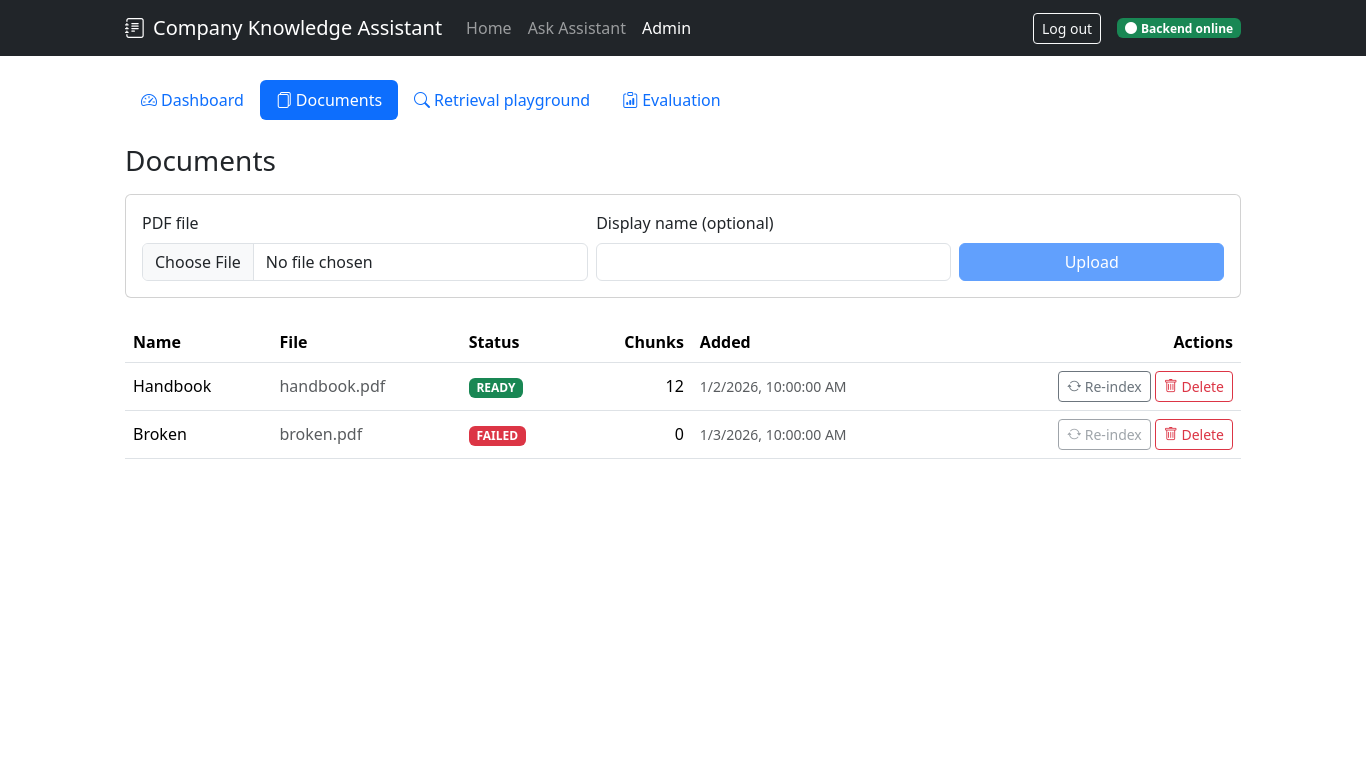
Test: admin panel › document management › deletes only after confirmation
Click the button with aria-label "Delete Handbook" at [1194, 386], box [1155,371,1233,402]
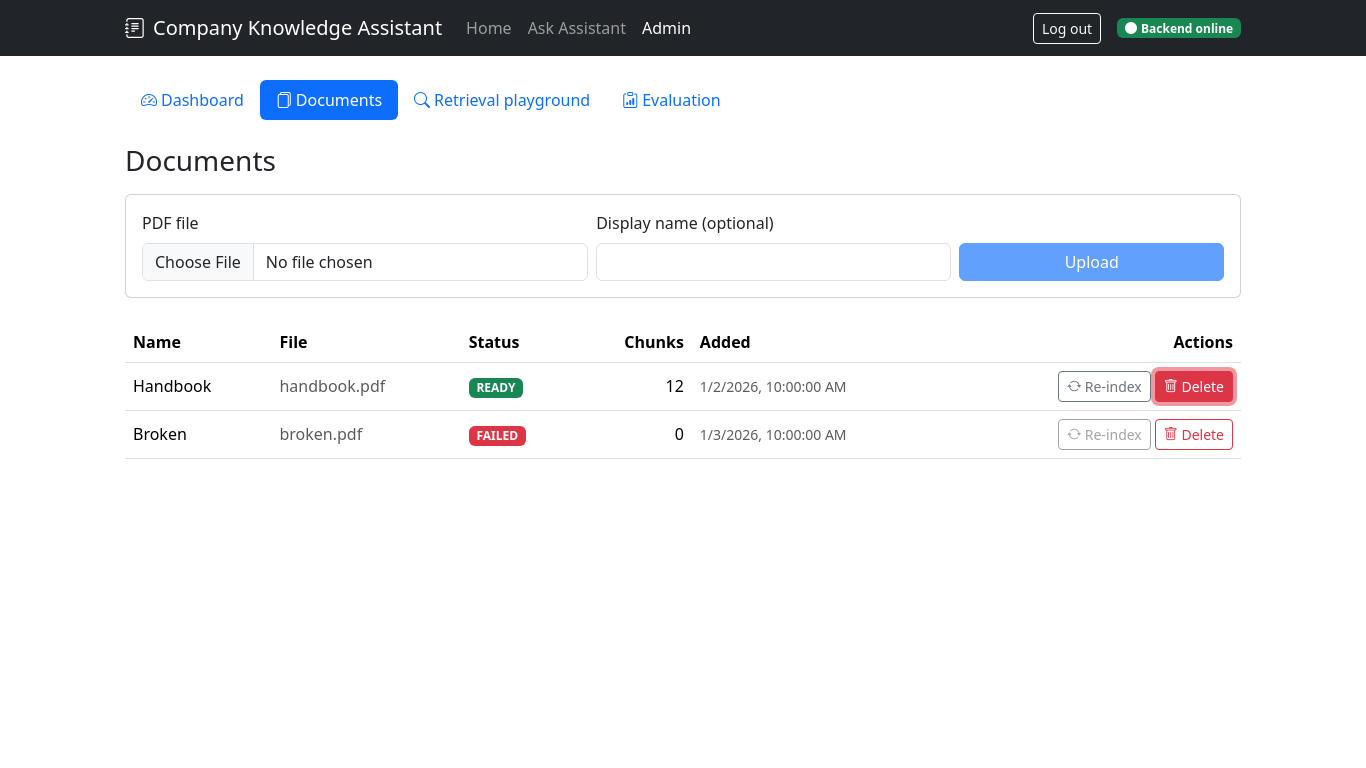
Click the button with aria-label "Delete Handbook" at [1194, 386], box [1155,371,1233,402]
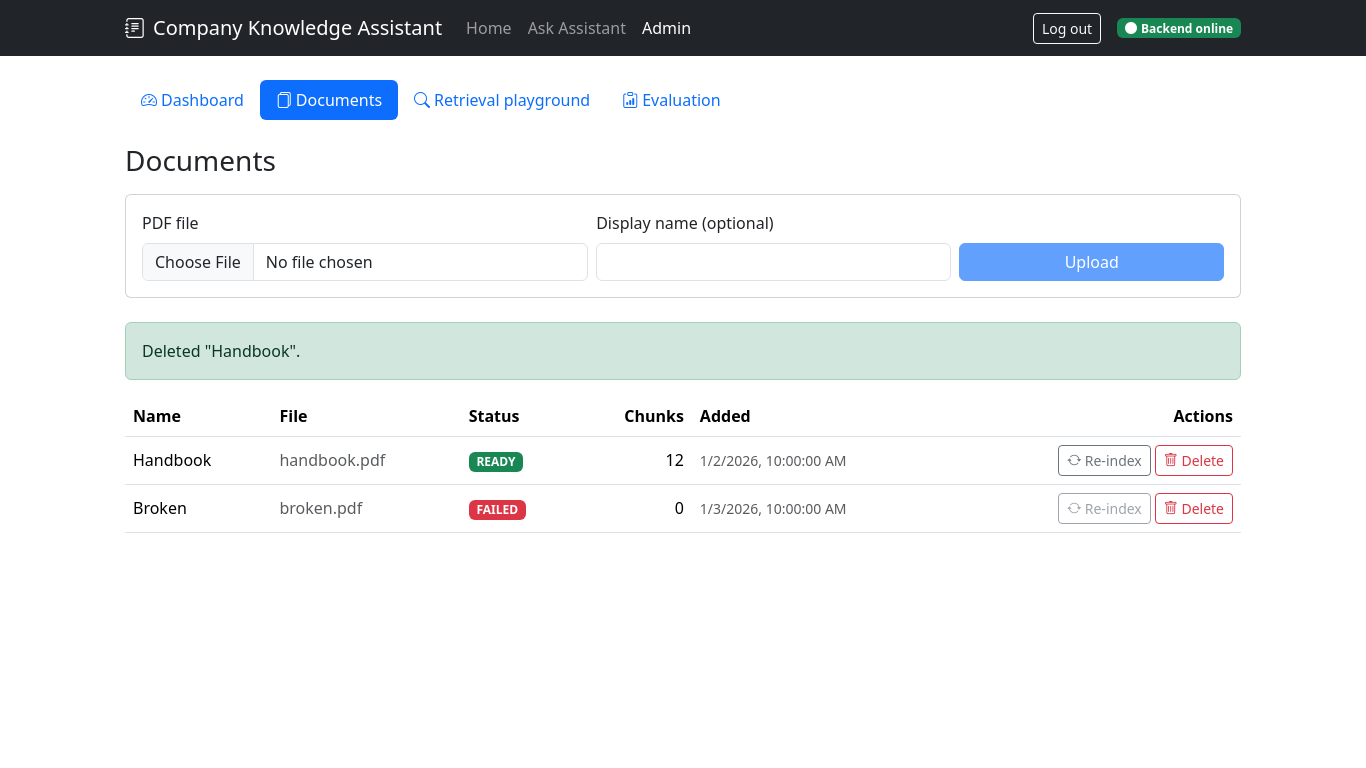
expect the text "Deleted \"Handbook\"." is shown: met, box [125,322,1241,380]
